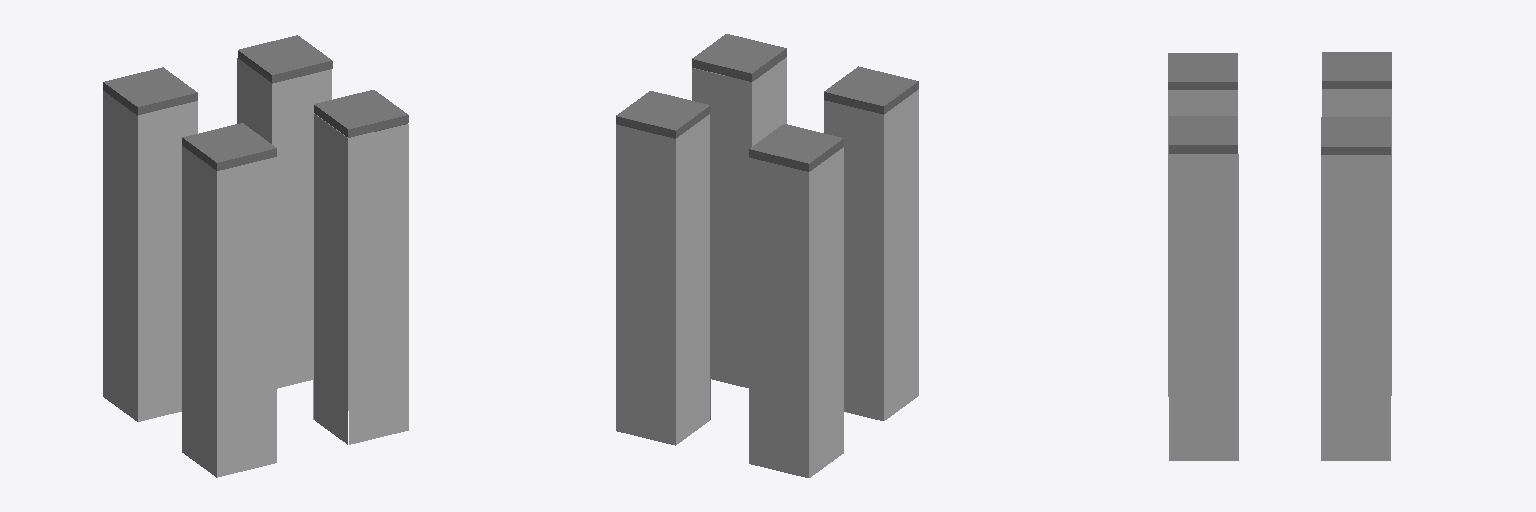
The model's file is buildings.obj.
3 views of the same model, side by side, from view 1: azimuth 30°, elevation 25°; view 2: azimuth 150°, elevation 25°; view 3: azimuth 270°, elevation 25° (orthographic).
Parts seen in each view (by area): view 1: building_textur.002_building_textur.002, building_text.001_building_text.002, building_te.002_building_te.002, building_tex.003_building_tex.003, building_text.003_building_text.004, building_te.003_building_te.003, building_textur.003_building_textur.003, Cube.024_building_textur_roof, Cube.025_building_text_roof, Cube.026_building_tex_roof, Cube.027_building_te_roof, building_tex_building_tex (+1 smaller); view 2: building_tex.001_building_tex.001, building_te.001_building_te.001, building_text.002_building_text.003, building_textur_building_textur, building_text.003_building_text.004, building_te.003_building_te.003, building_tex_building_tex, Cube.027_building_te_roof, Cube.024_building_textur_roof, Cube.025_building_text_roof, Cube.026_building_tex_roof, building_textur.003_building_textur.003; view 3: building_textur.001_building_textur.001, building_tex.002_building_tex.002, Cube.026_building_tex_roof, Cube.024_building_textur_roof, Cube.025_building_text_roof, Cube.027_building_te_roof, building_te_building_te, building_text_building_text.
Part boxes in pixels (left/top/right/bottom): building_textur.002_building_textur.002: left=349, top=124, right=408, bottom=444; building_text.001_building_text.002: left=217, top=157, right=276, bottom=477; building_te.002_building_te.002: left=138, top=101, right=197, bottom=421; building_tex.003_building_tex.003: left=272, top=69, right=331, bottom=388; building_text.003_building_text.004: left=182, top=146, right=216, bottom=477; building_te.003_building_te.003: left=103, top=91, right=137, bottom=421; building_textur.003_building_textur.003: left=314, top=114, right=347, bottom=444; Cube.024_building_textur_roof: left=314, top=90, right=408, bottom=137; Cube.025_building_text_roof: left=182, top=123, right=276, bottom=170; Cube.026_building_tex_roof: left=238, top=35, right=332, bottom=83; Cube.027_building_te_roof: left=103, top=67, right=197, bottom=115; building_tex_building_tex: left=237, top=58, right=271, bottom=143; building_tex.001_building_tex.001: left=616, top=124, right=675, bottom=445; building_te.001_building_te.001: left=749, top=158, right=808, bottom=477; building_text.002_building_text.003: left=824, top=100, right=883, bottom=420; building_textur_building_textur: left=692, top=68, right=751, bottom=387; building_text.003_building_text.004: left=884, top=89, right=918, bottom=420; building_te.003_building_te.003: left=809, top=147, right=843, bottom=477; building_tex_building_tex: left=676, top=114, right=709, bottom=444; Cube.027_building_te_roof: left=749, top=124, right=843, bottom=171; Cube.024_building_textur_roof: left=692, top=34, right=786, bottom=81; Cube.025_building_text_roof: left=824, top=66, right=918, bottom=114; Cube.026_building_tex_roof: left=616, top=91, right=710, bottom=138; building_textur.003_building_textur.003: left=752, top=57, right=786, bottom=146; building_textur.001_building_textur.001: left=1169, top=154, right=1238, bottom=460; building_tex.002_building_tex.002: left=1321, top=155, right=1390, bottom=460; Cube.026_building_tex_roof: left=1321, top=117, right=1390, bottom=154; Cube.024_building_textur_roof: left=1169, top=116, right=1237, bottom=153; Cube.025_building_text_roof: left=1168, top=53, right=1237, bottom=89; Cube.027_building_te_roof: left=1322, top=52, right=1391, bottom=88; building_te_building_te: left=1322, top=89, right=1391, bottom=395; building_text_building_text: left=1168, top=90, right=1237, bottom=396.
Bounding box in the file's own units: 48.4 × 75.22 × 48.23.